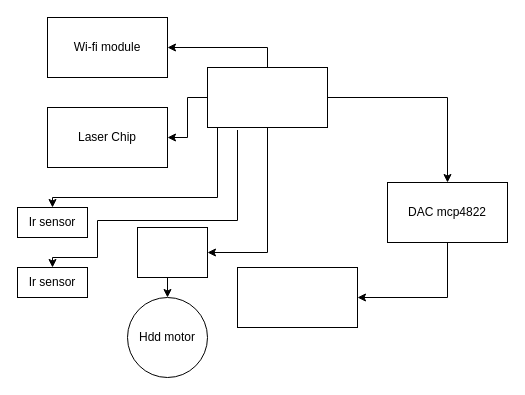
Some shapes in this 525 by 395 pixel diagram are drawn without their labels. The shapes that lost their labels are listed below. From the top down, each one's centre as x and y in pixels, then its label:
At [267,97]: "Arduino nano".
At [172,252]: "Motor driver".
At [297,297]: "Motor with mirror".
